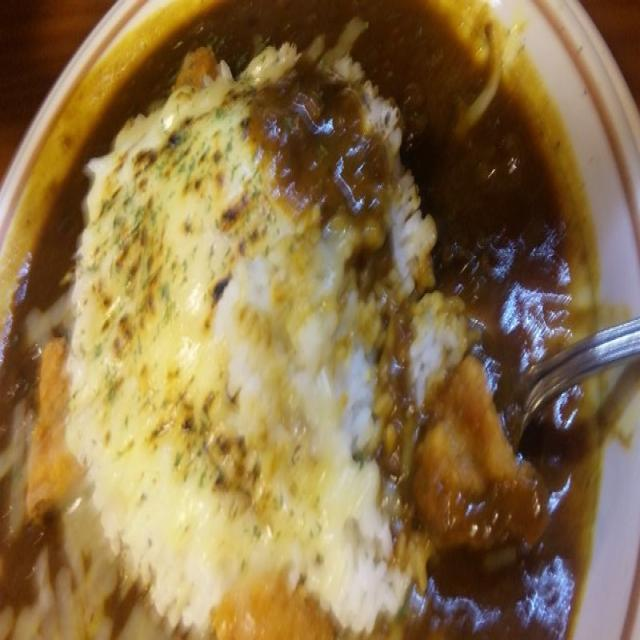Beef Curry: (0, 82, 635, 563)
